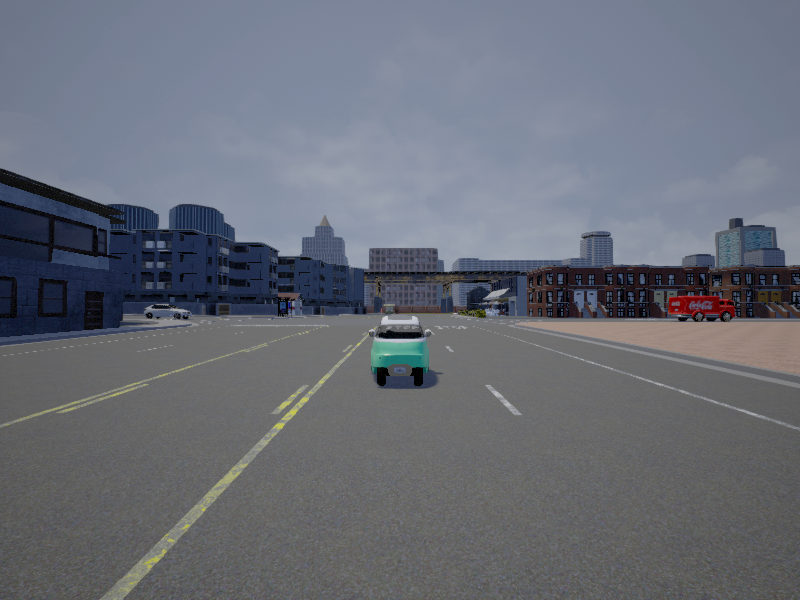Benign: (369, 315, 434, 385), (667, 296, 736, 323), (144, 303, 191, 322)
